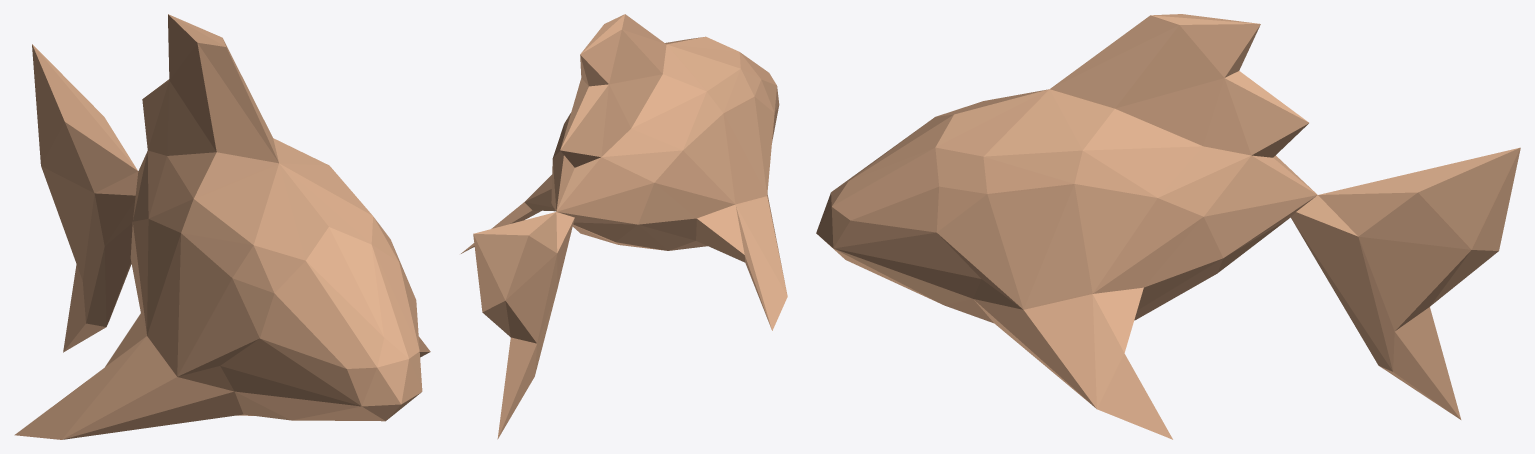
The model's file is Fish_01.fbx.
3 views of the same model, side by side, from view 1: azimuth 30°, elevation 25°; view 2: azimuth 150°, elevation 25°; view 3: azimuth 270°, elevation 25° (orthographic). The views are drawn at different scales.
Parts seen in each view (by area): view 1: Fish_01; view 2: Fish_01; view 3: Fish_01.
Boxes of the visible parts, left/top/right/bottom form: Fish_01: left=14, top=14, right=430, bottom=439; Fish_01: left=461, top=14, right=787, bottom=439; Fish_01: left=816, top=14, right=1520, bottom=439.
Size of the model in its own units: 214 by 218 by 343.
